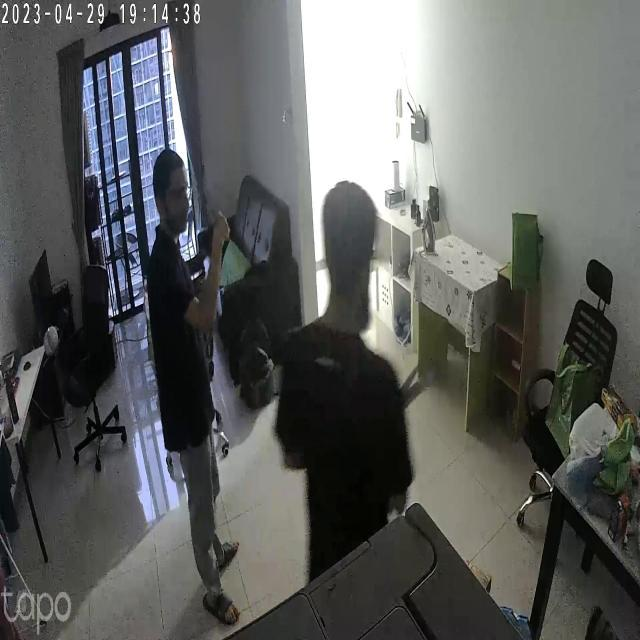Knife: (193, 172, 231, 240)
